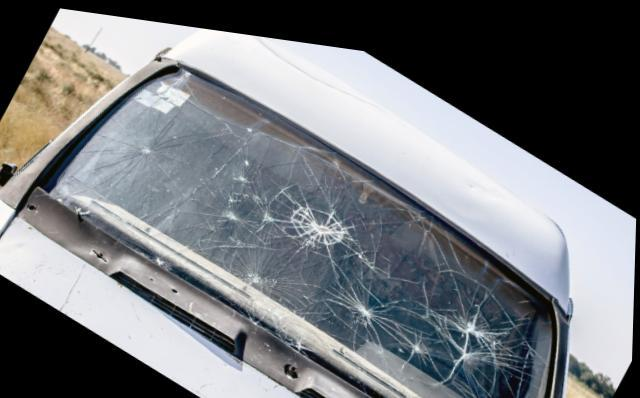dent: (253, 28, 381, 94)
glass shatter: (52, 65, 551, 398)
